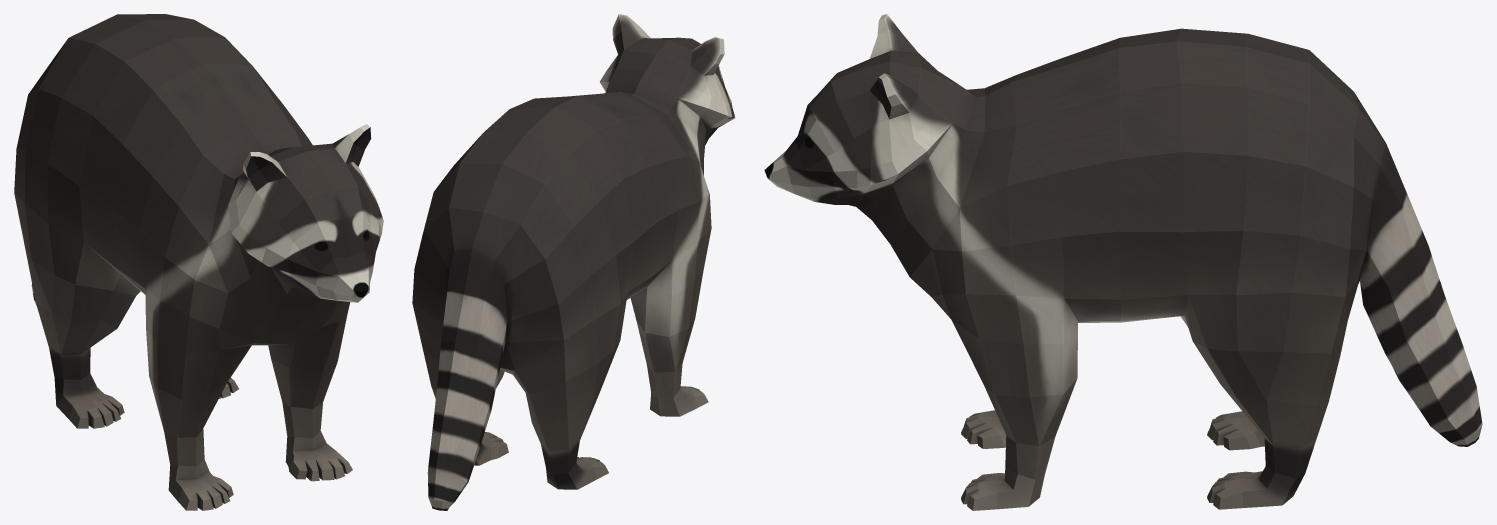
File: Raccoon.gltf
The picture shows the model from 3 angles, left to right: view 1: azimuth 30°, elevation 25°; view 2: azimuth 150°, elevation 25°; view 3: azimuth 270°, elevation 25°; orthographic projection. The views are drawn at different scales.
Parts seen in each view (by area): view 1: node-0; view 2: node-0; view 3: node-0.
Part boxes in pixels (x1,y1,x2,y2): node-0: [14, 14, 383, 510]; node-0: [412, 14, 735, 510]; node-0: [764, 14, 1482, 510].
Bounding box in the file's own units: 1.83 × 3.29 × 5.03.
1 material, 1 textured.
